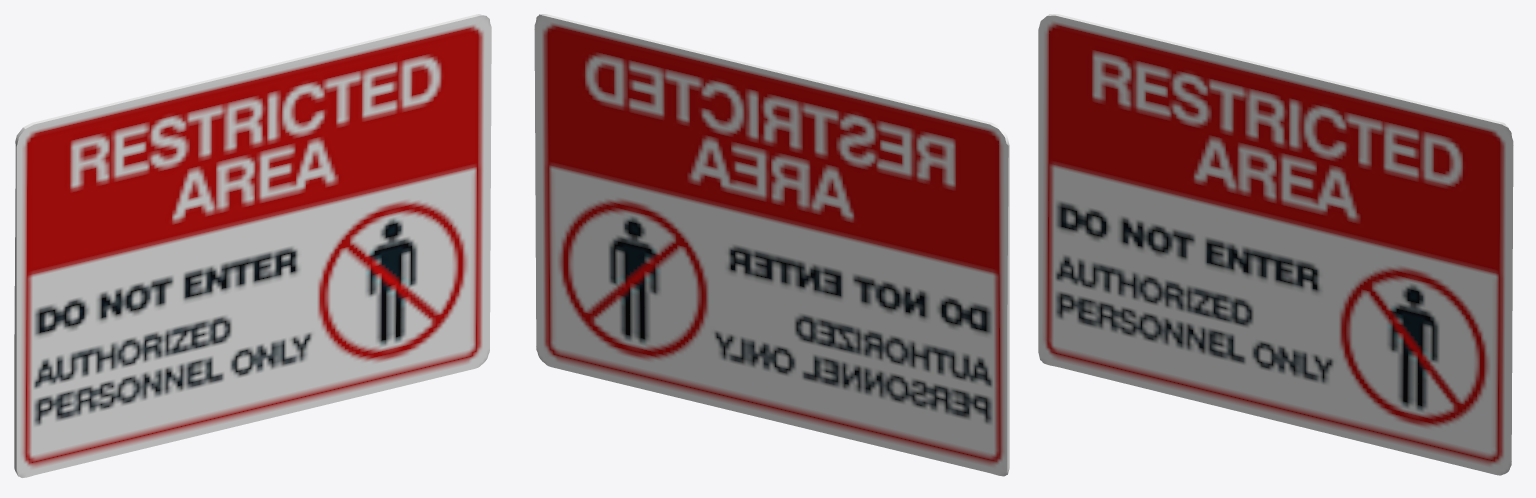
File: Sign_1.fbx
The picture shows the model from 3 angles, left to right: view 1: azimuth 30°, elevation 25°; view 2: azimuth 150°, elevation 25°; view 3: azimuth 330°, elevation 25°; orthographic projection.
Parts seen in each view (by area): view 1: Sign_1; view 2: Sign_1; view 3: Sign_1.
Part boxes in pixels (left/top/right/bottom): Sign_1: left=14, top=14, right=491, bottom=477; Sign_1: left=534, top=14, right=1009, bottom=476; Sign_1: left=1038, top=14, right=1513, bottom=475.
Size of the model in its own units: 1.02 by 0.7265 by 0.00838.
1 material, 1 textured.
